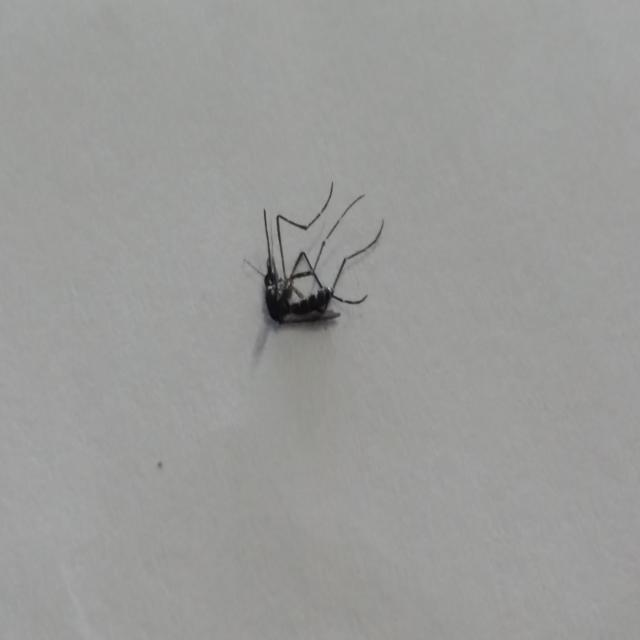albopictus: (238, 163, 384, 332)
